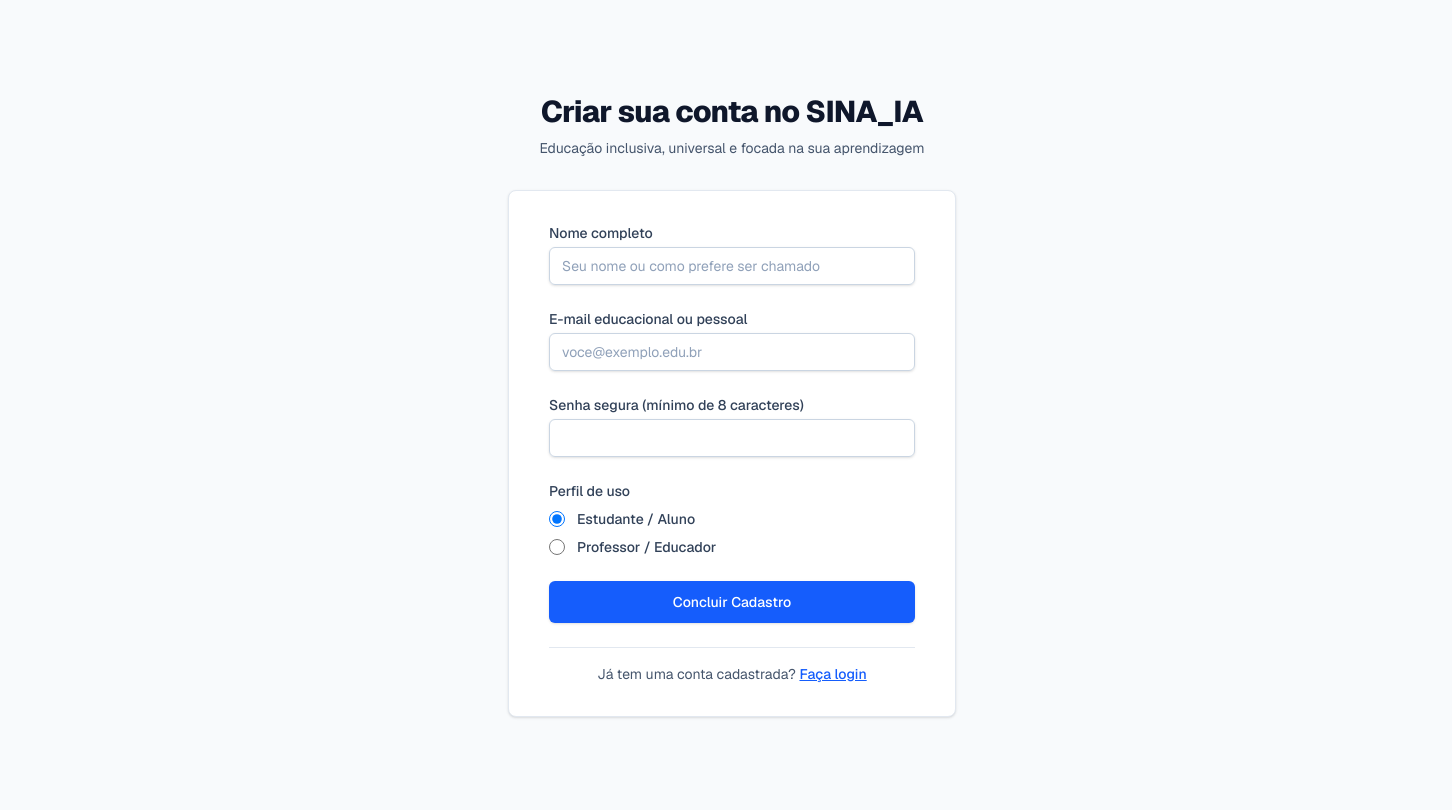
Test: session right after login or sign up › marks the session as authenticated after sign up, without reloading the page
Type "Aluna" into the field labelled "Nome completo" at {"x": 732, "y": 266}, box top-left (549, 246), bottom-right (915, 284)
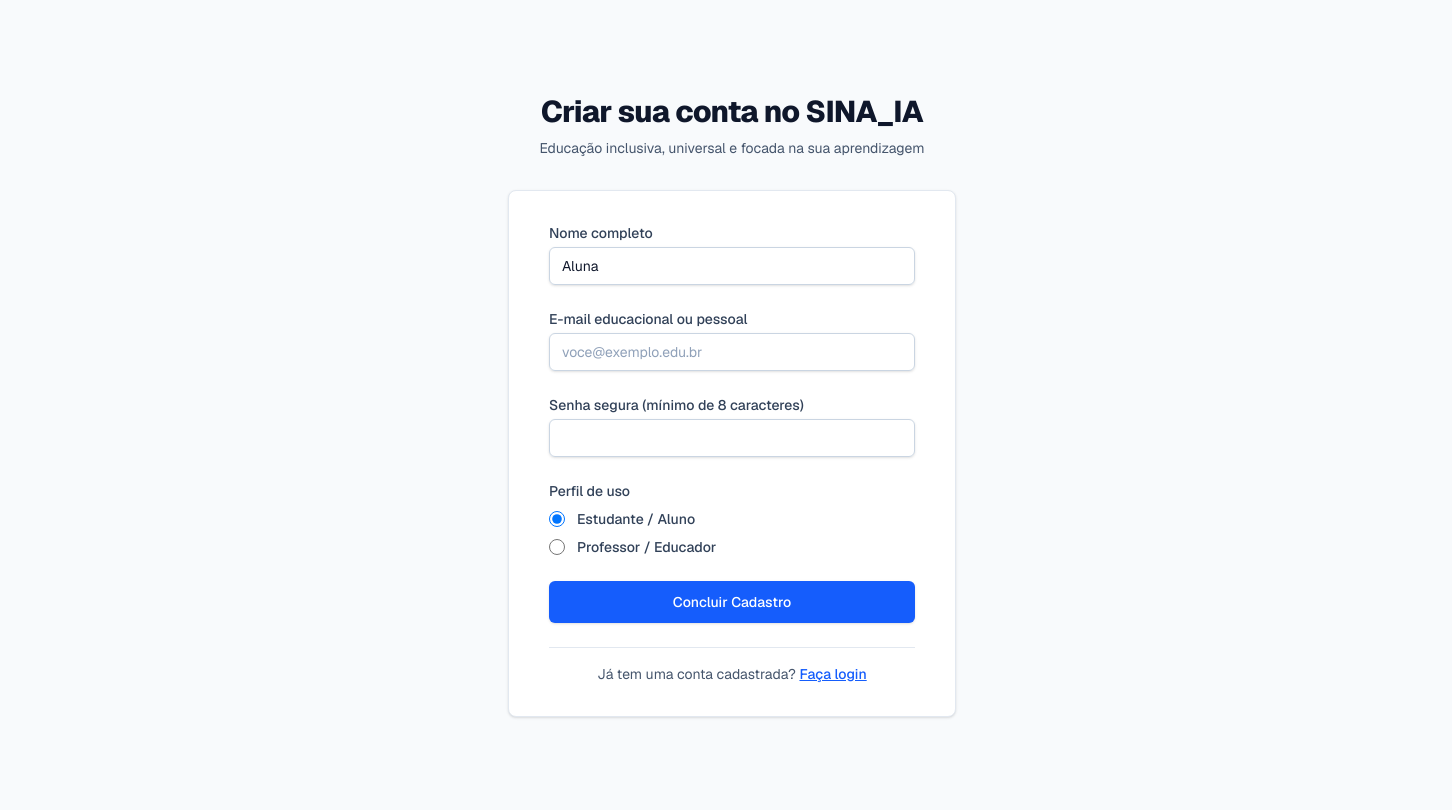
Type "aluna@sina.dev" into the field labelled "E-mail educacional ou pessoal" at {"x": 732, "y": 352}, box top-left (549, 332), bottom-right (915, 370)
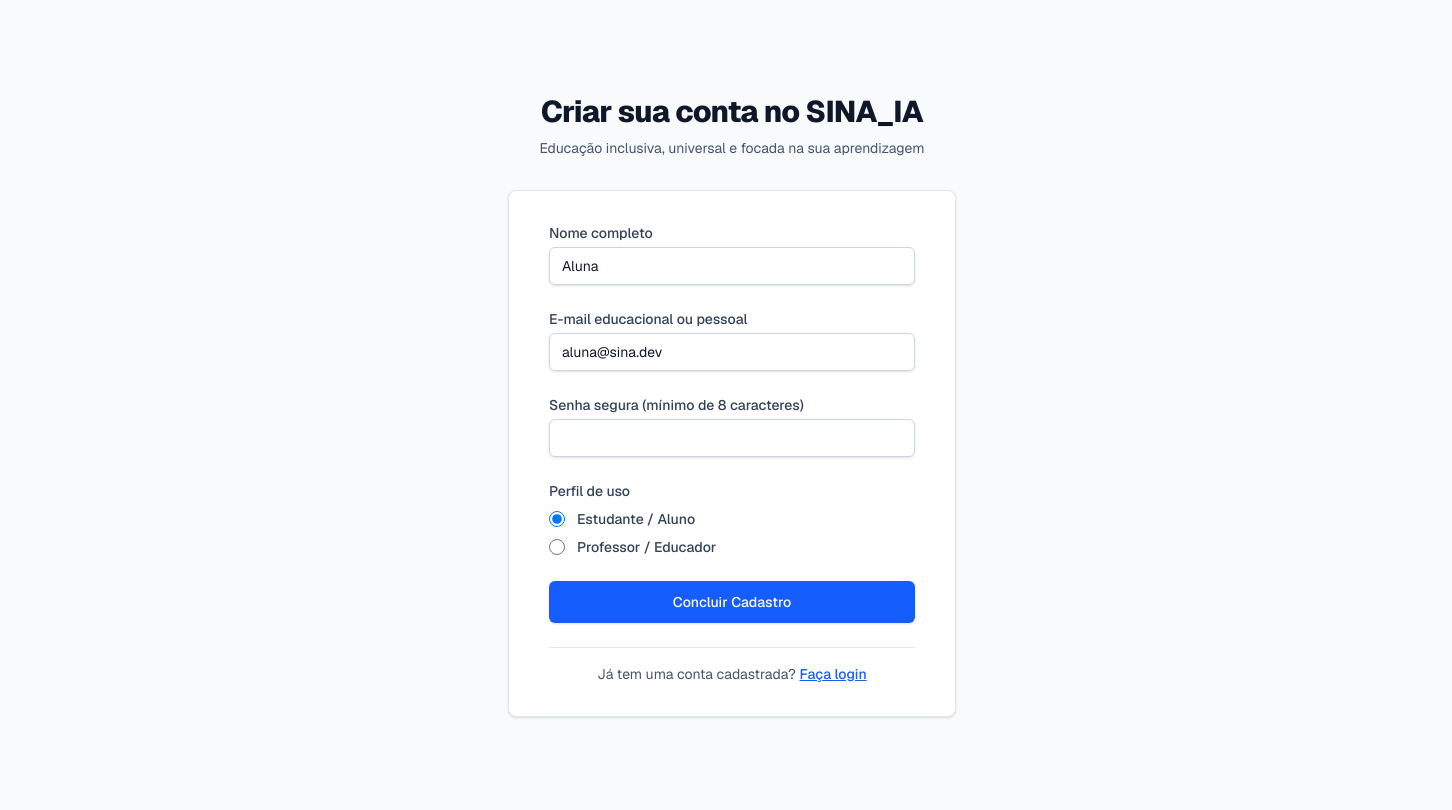
Type "senhaForte123" into the password field labelled "Senha segura (mínimo de 8 caracteres)" at {"x": 732, "y": 438}, box top-left (549, 418), bottom-right (915, 456)
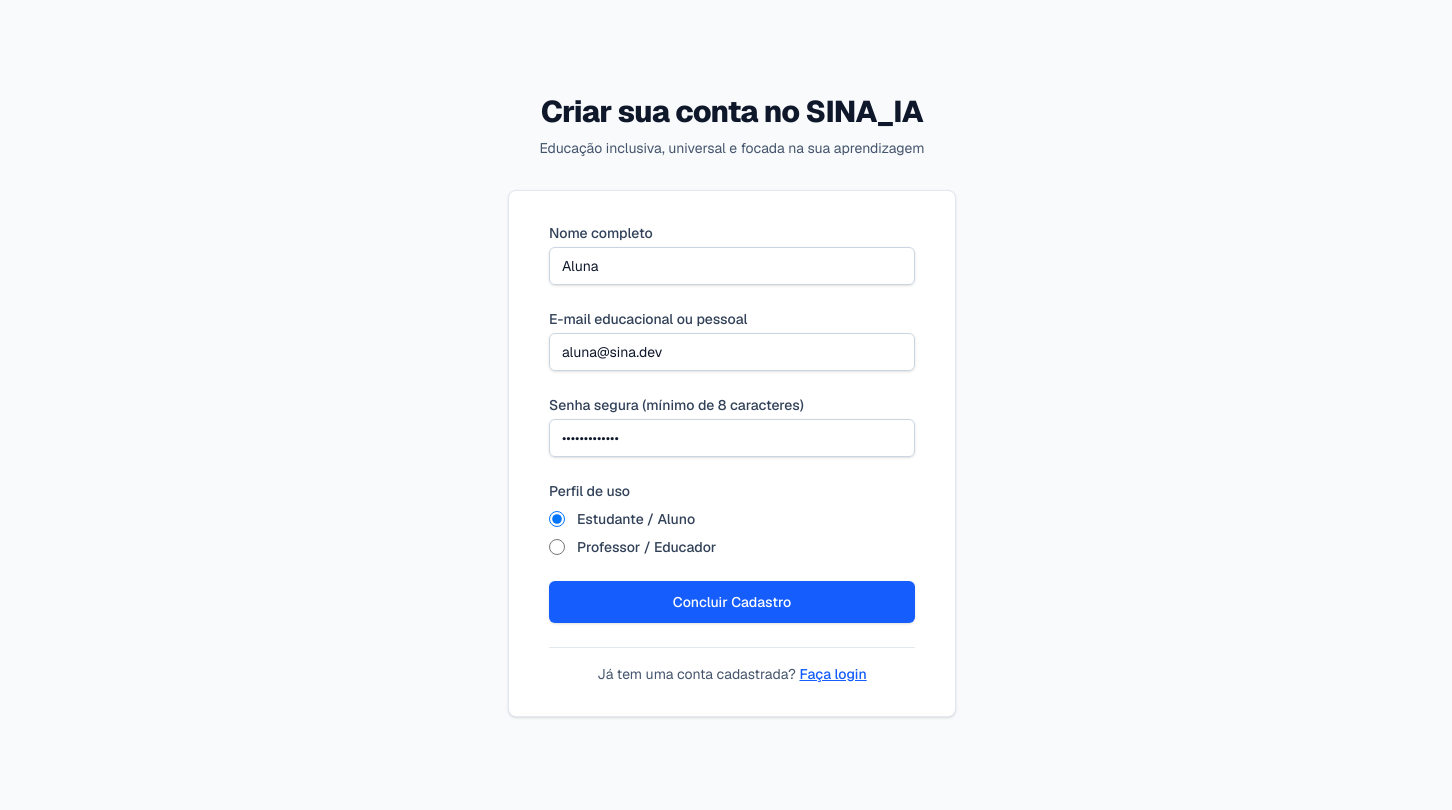
Click the button "Concluir Cadastro" at {"x": 732, "y": 602}, box top-left (549, 580), bottom-right (915, 622)
(page scrolled)
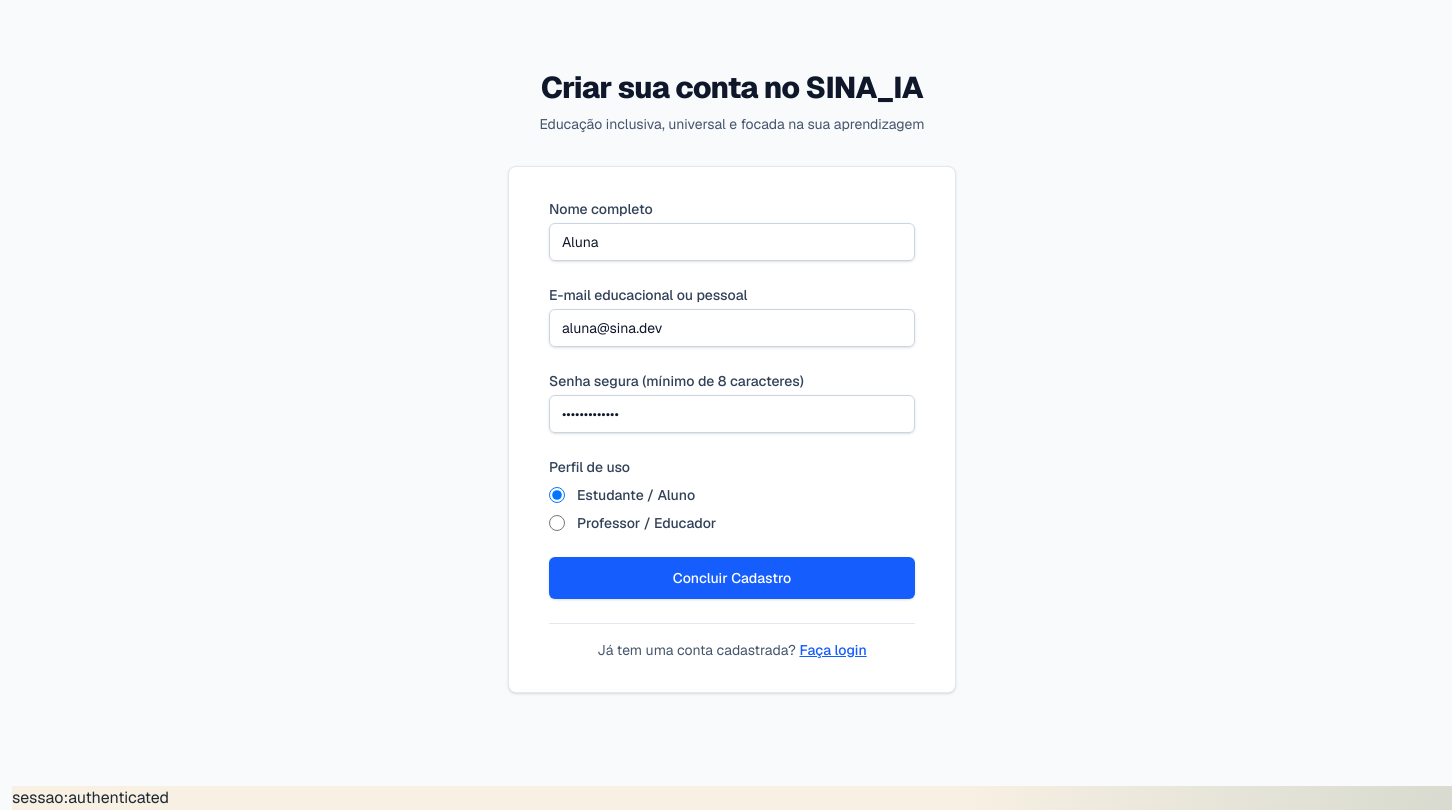
Now the text "sessao:authenticated" is shown, box top-left (12, 787), bottom-right (169, 808)
